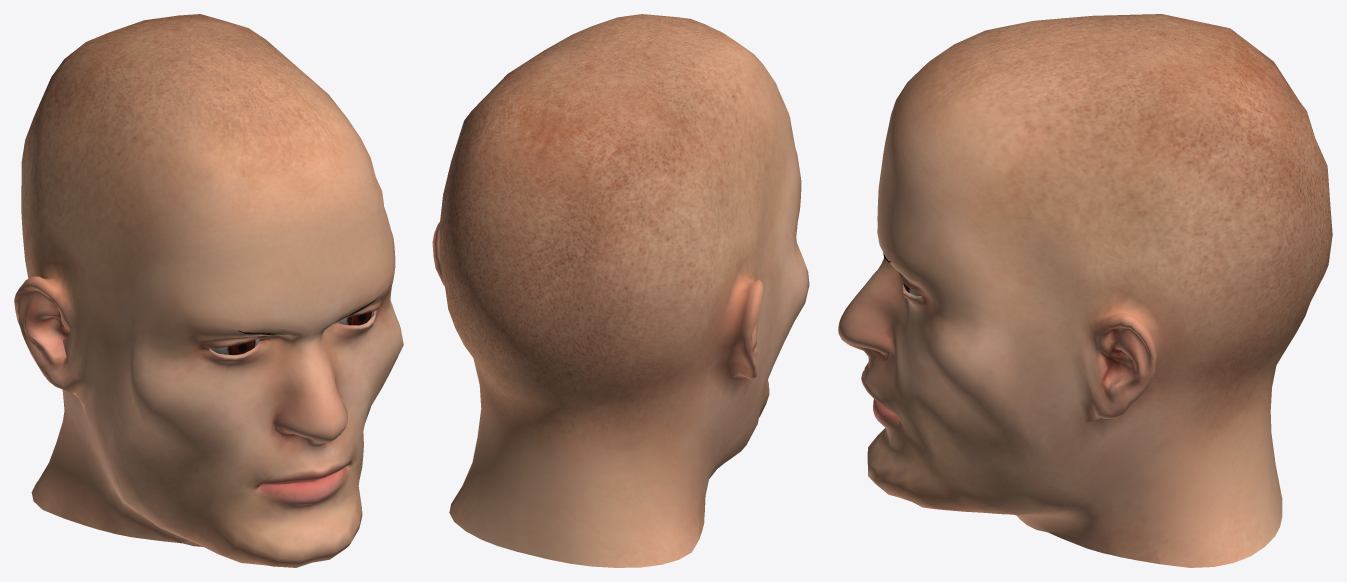
The model's file is head_7_chad.fbx.
The picture shows the model from 3 angles, left to right: view 1: azimuth 30°, elevation 25°; view 2: azimuth 150°, elevation 25°; view 3: azimuth 270°, elevation 25°; orthographic projection. The views are drawn at different scales.
Visible parts, largest first — view 1: head_7_chad; view 2: head_7_chad; view 3: head_7_chad.
Part boxes in pixels (x1=…): head_7_chad: x1=14, y1=14, x2=403, y2=567; head_7_chad: x1=432, y1=14, x2=809, y2=567; head_7_chad: x1=838, y1=14, x2=1332, y2=567.
Bounding box in the file's own units: 76.03 × 100 × 94.18.
Materials: 1 (1 with a texture image).
